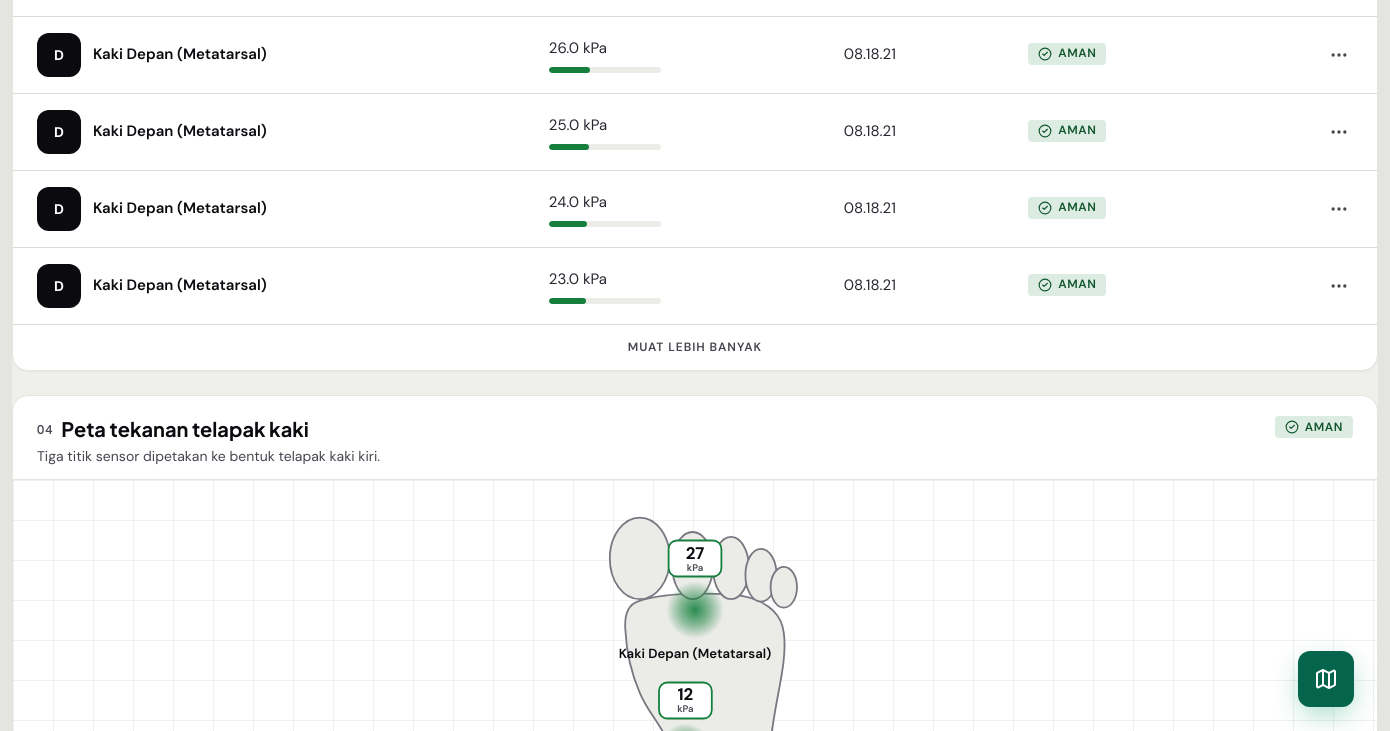
DashboardPage controls › lists real readings in the activity feed and loads more on request
This screenshot has width=1390, height=731.
(page scrolled)
Click the button "Muat lebih banyak" at [695, 348], box [13,325,1377,370]
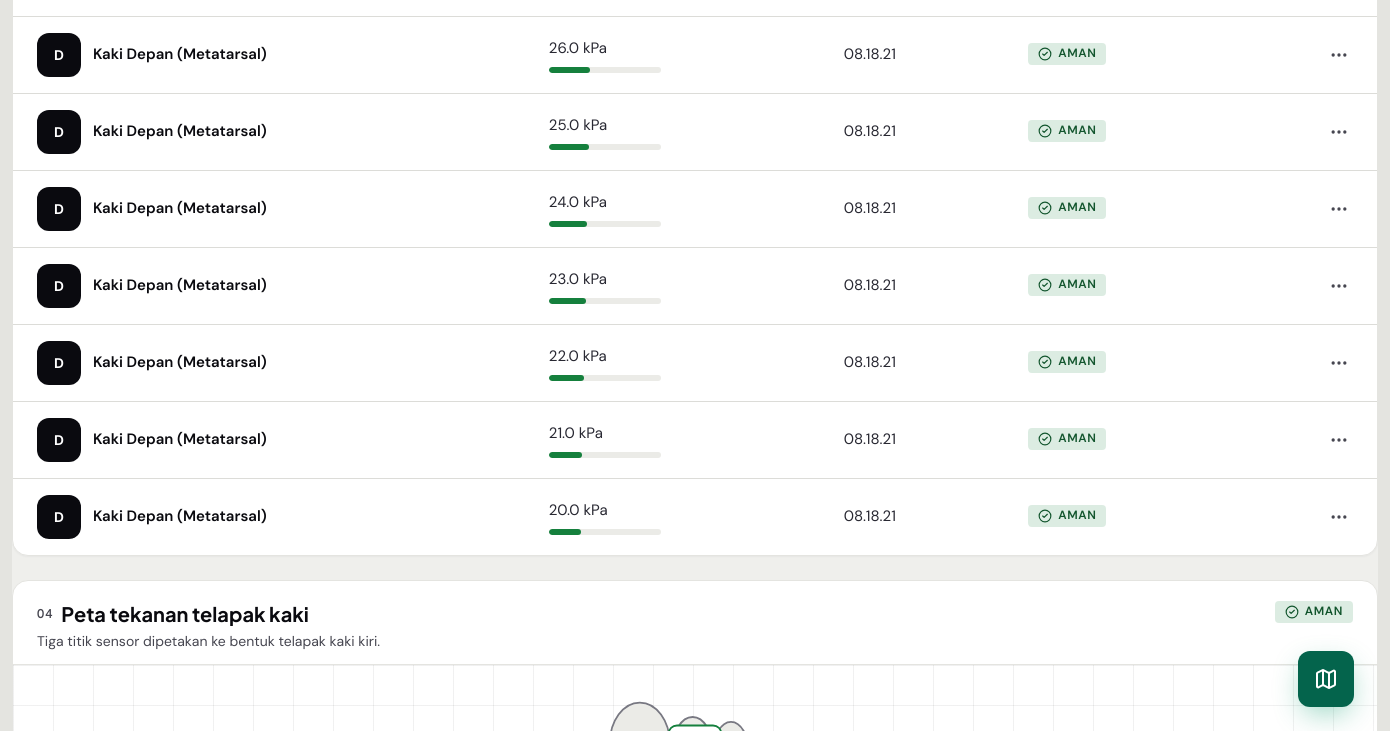
expect the button "Muat lebih banyak" is gone: met
